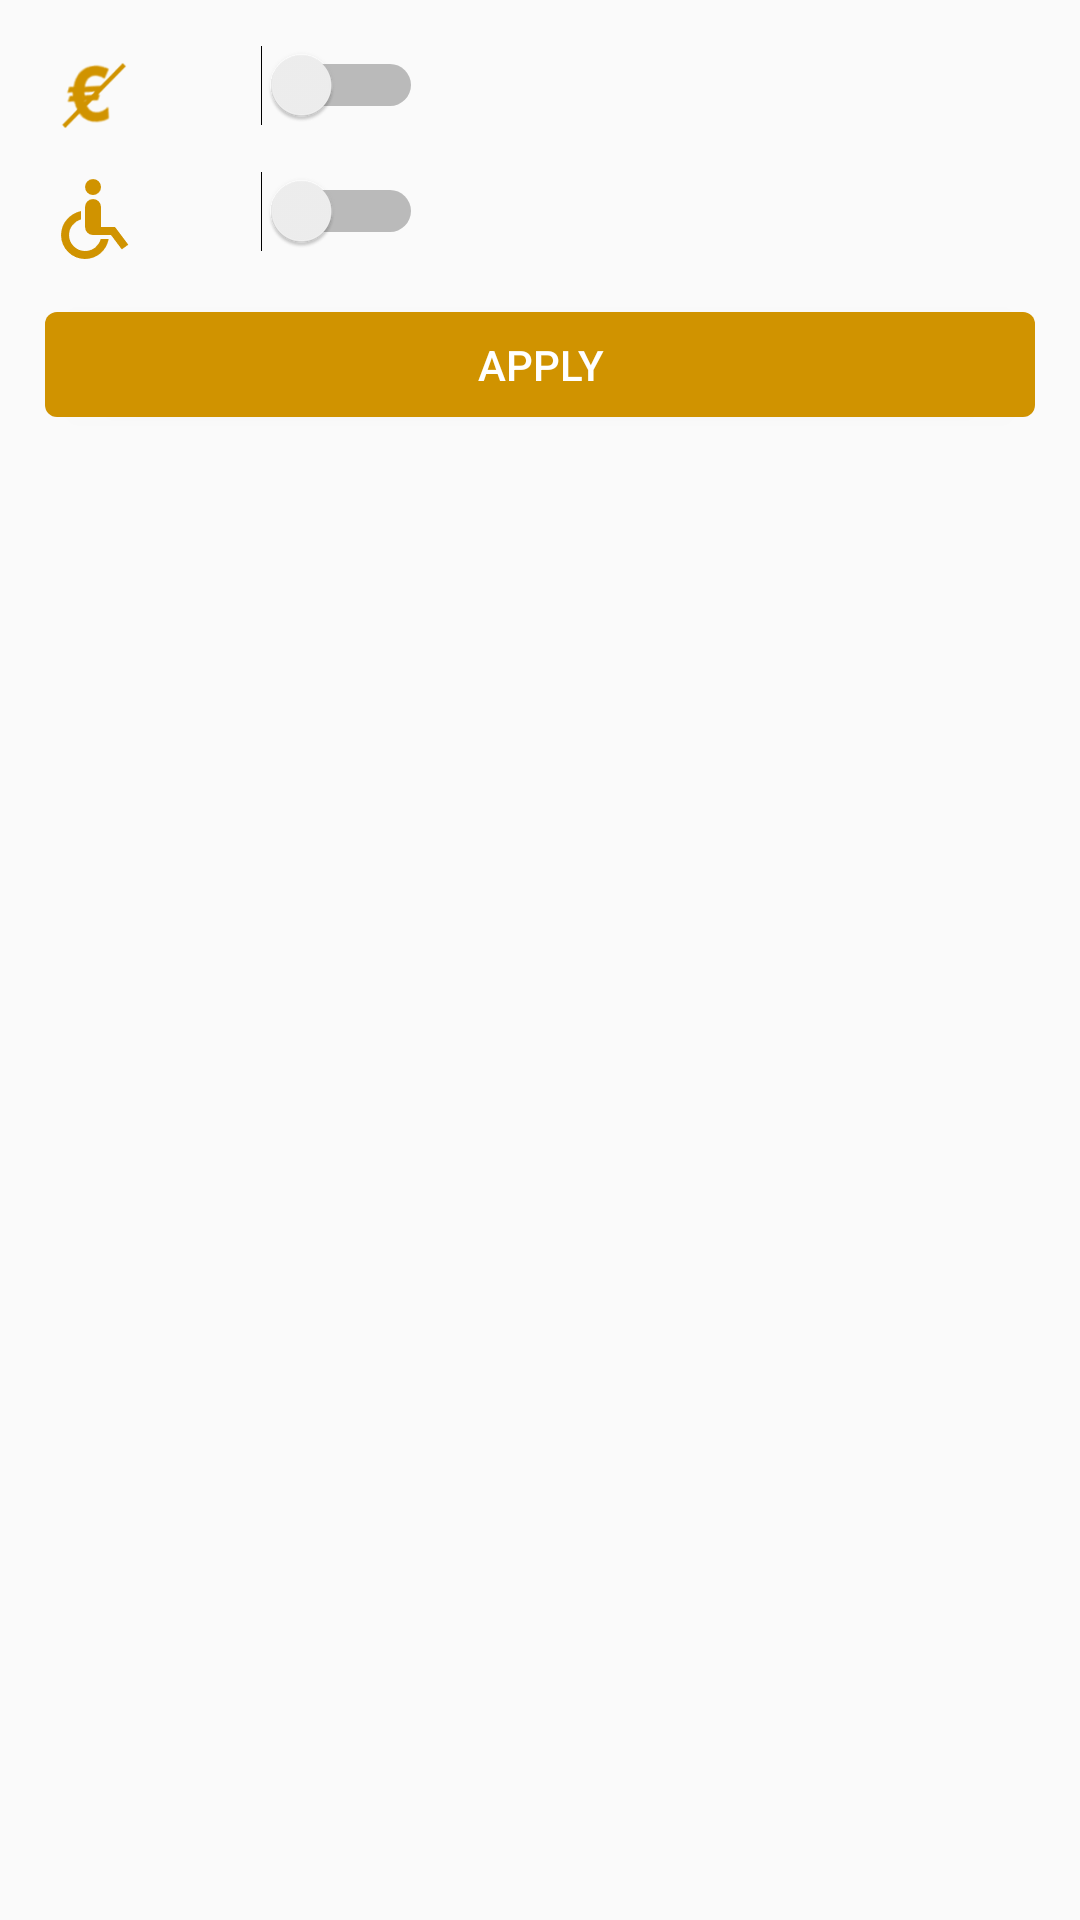

Icon bounding boxes for this 1080×1920 phone screenshot, format bbox=(x1, y1, x2, y2):
barrierfree: bbox=(61, 179, 128, 259)
free: bbox=(62, 63, 126, 128)
